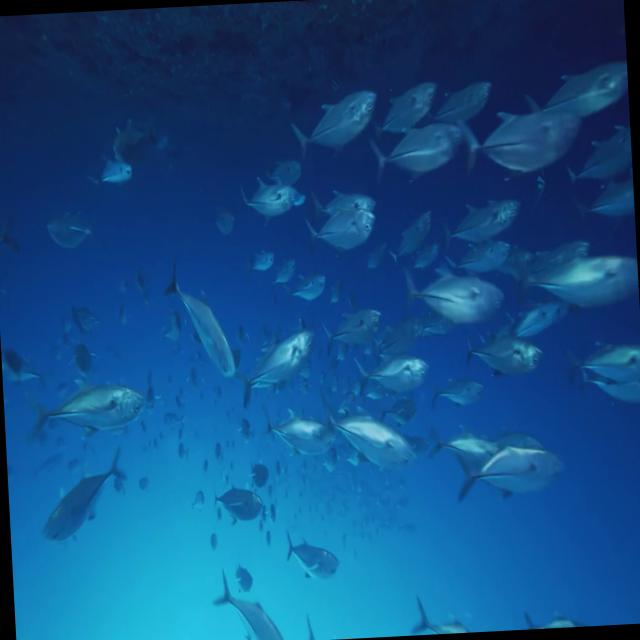fish: (462, 109, 596, 190), (515, 245, 640, 324), (162, 256, 235, 390), (35, 460, 127, 563), (325, 401, 420, 490), (26, 376, 126, 459), (460, 434, 570, 503), (309, 292, 397, 374), (232, 326, 320, 403), (203, 564, 288, 640), (290, 95, 377, 162), (240, 404, 333, 466), (465, 324, 546, 395), (341, 346, 426, 410), (364, 132, 464, 185), (548, 65, 630, 128), (366, 76, 437, 146), (276, 527, 340, 595), (562, 331, 640, 385), (235, 178, 308, 235), (40, 202, 98, 270), (420, 418, 495, 469), (427, 82, 495, 133), (302, 216, 384, 258), (424, 370, 486, 424), (80, 148, 142, 200), (573, 371, 640, 409), (306, 187, 374, 224), (113, 384, 144, 451), (203, 473, 251, 512), (290, 270, 326, 316), (256, 160, 302, 188), (222, 504, 264, 532)
